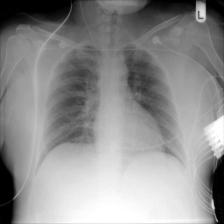normal: (37, 35, 188, 175)
